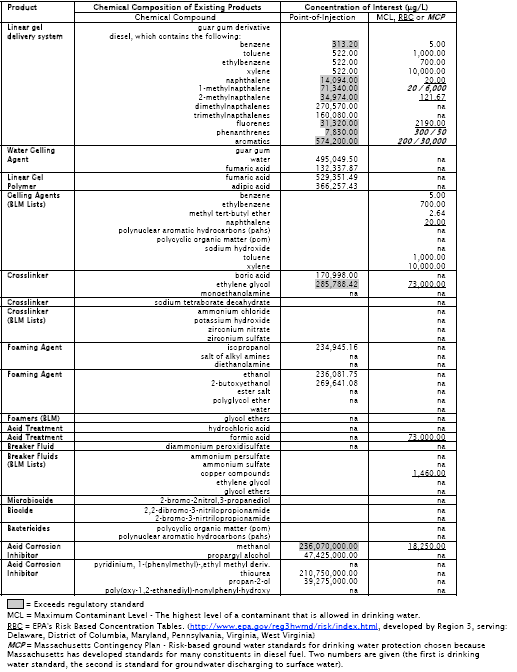fracking table: (1, 1, 457, 595)
